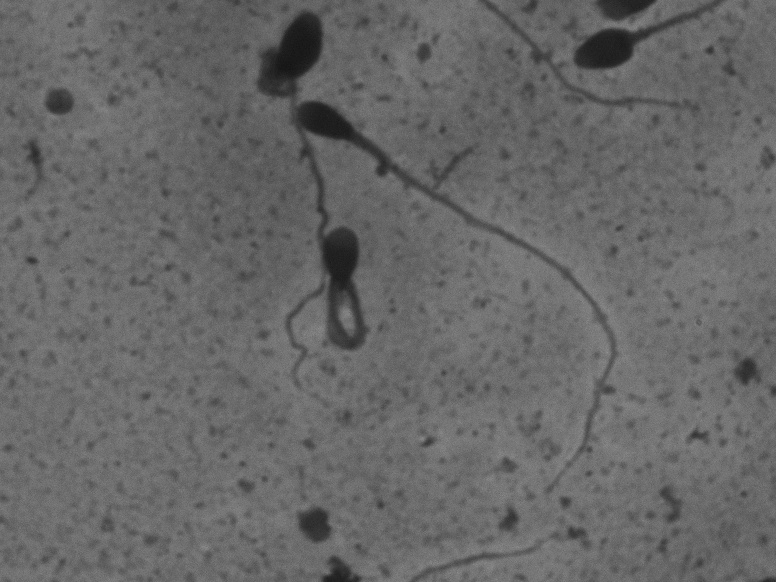Abnormal: (287, 94, 635, 518), (307, 218, 394, 373), (233, 10, 348, 100)
